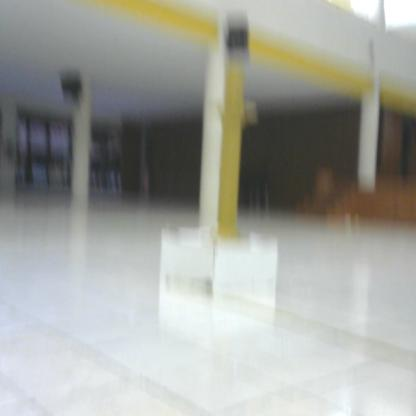pole: (214, 65, 260, 252)
